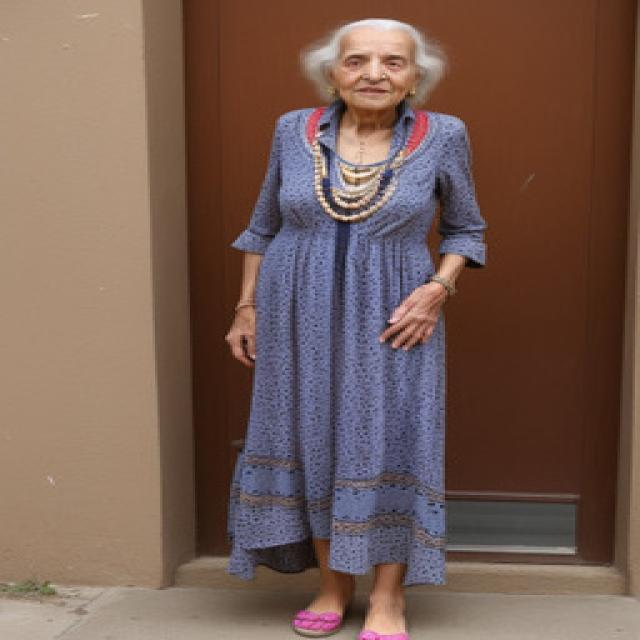Ai human 2: (210, 6, 503, 640)
